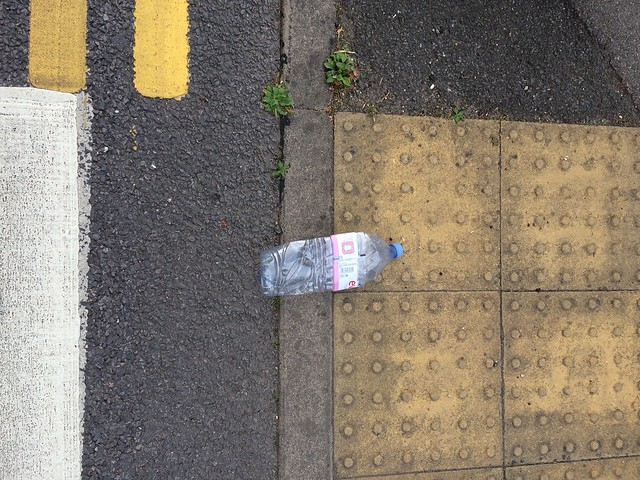bottle: (253, 224, 410, 304)
